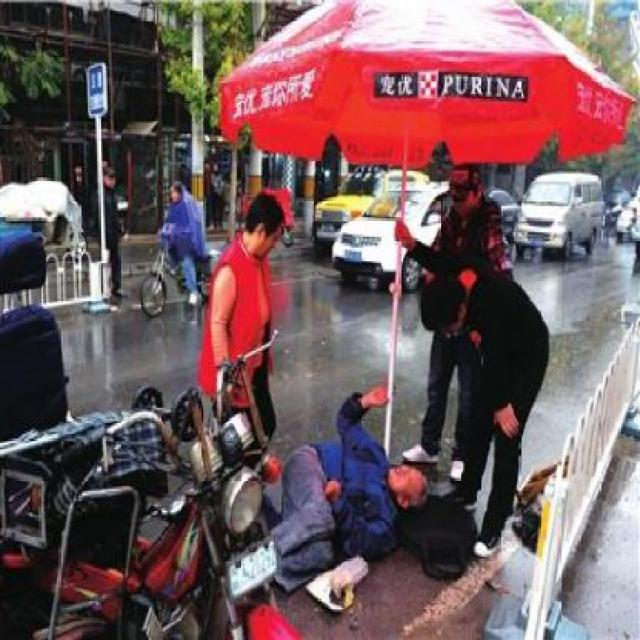fall: (260, 368, 445, 603)
